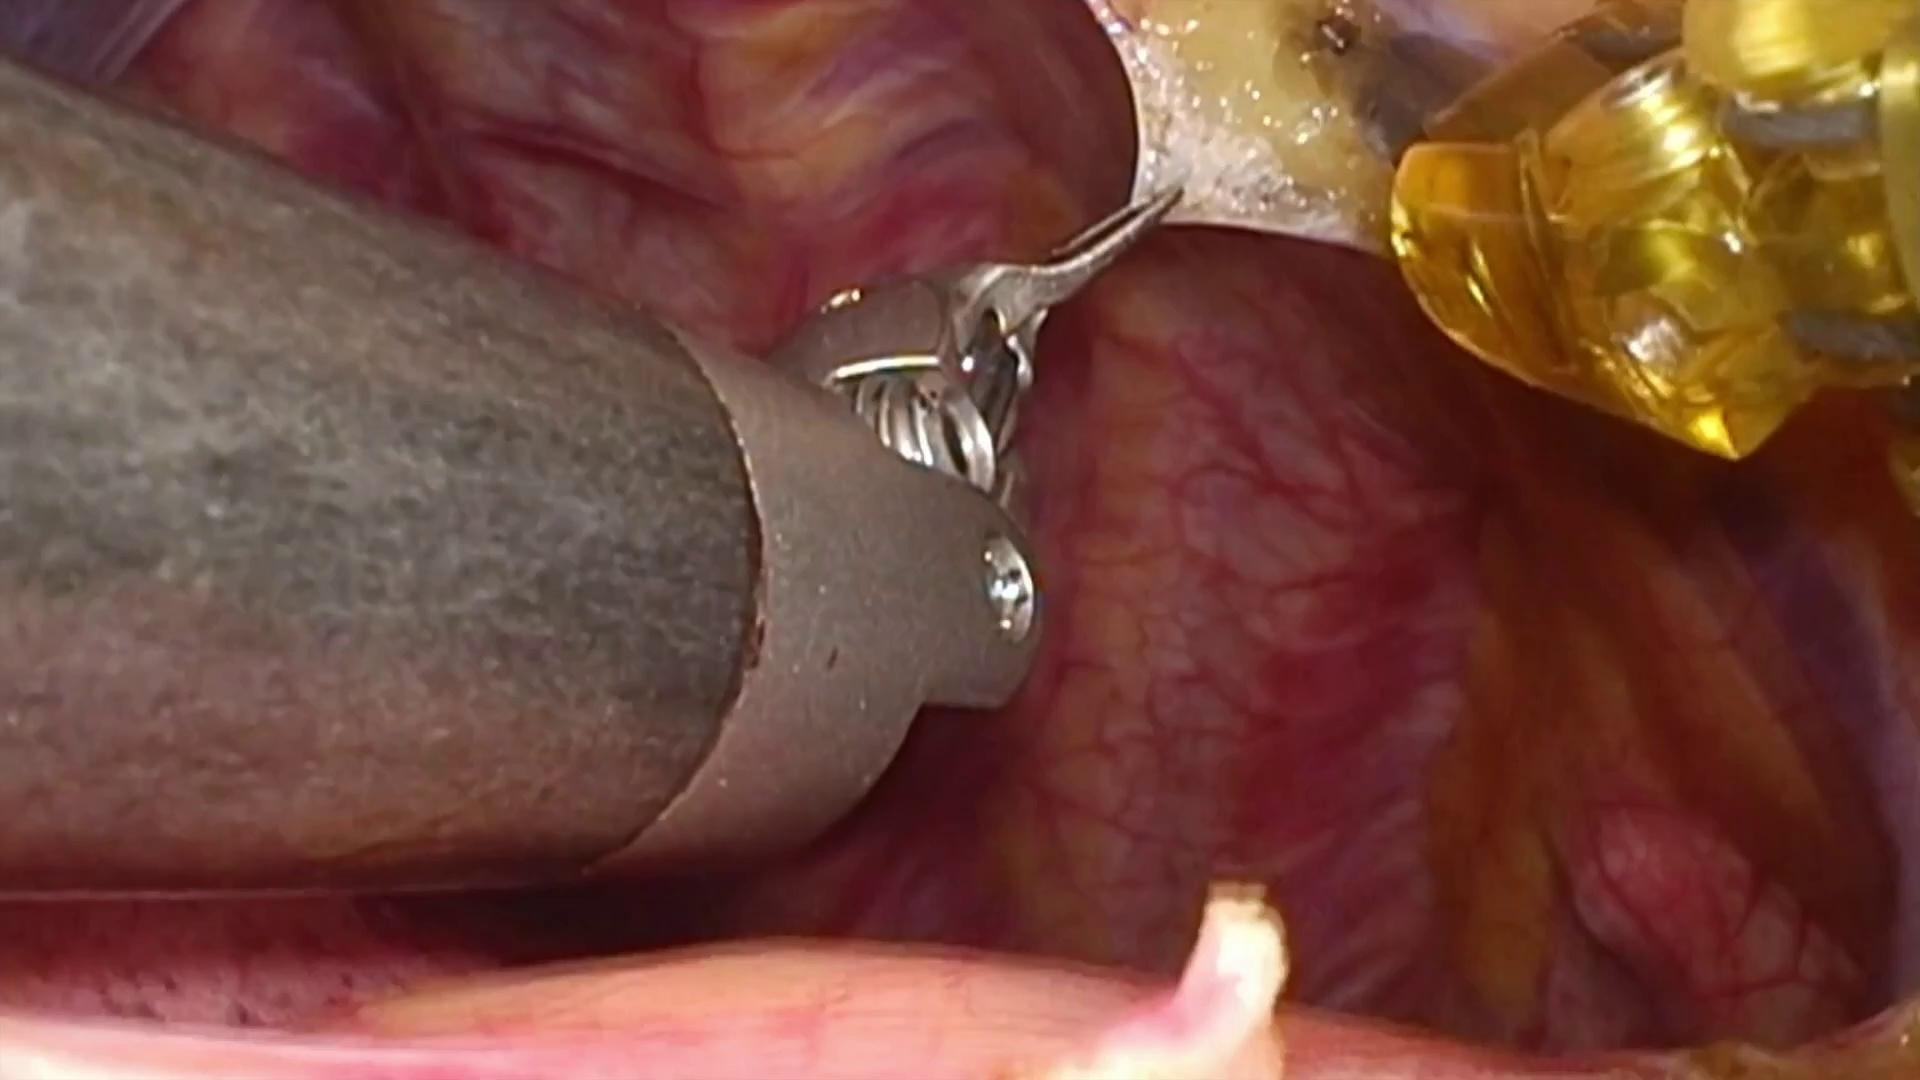Cautery_Spatula: (1290, 0, 1501, 171)
Debakey: (940, 169, 1192, 397)
